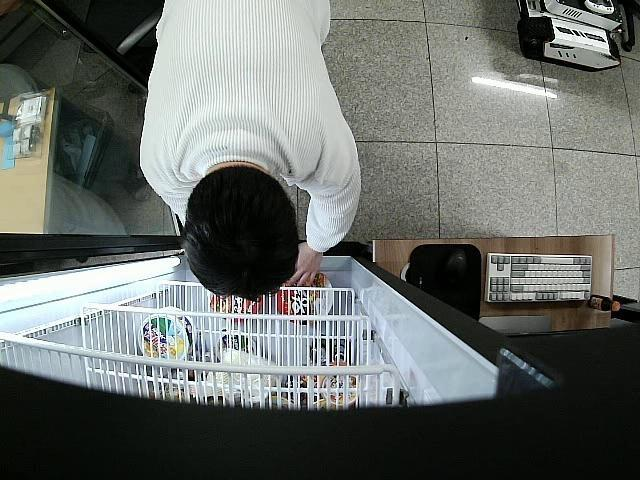10_wangTtukkeong: (278, 274, 333, 326)
